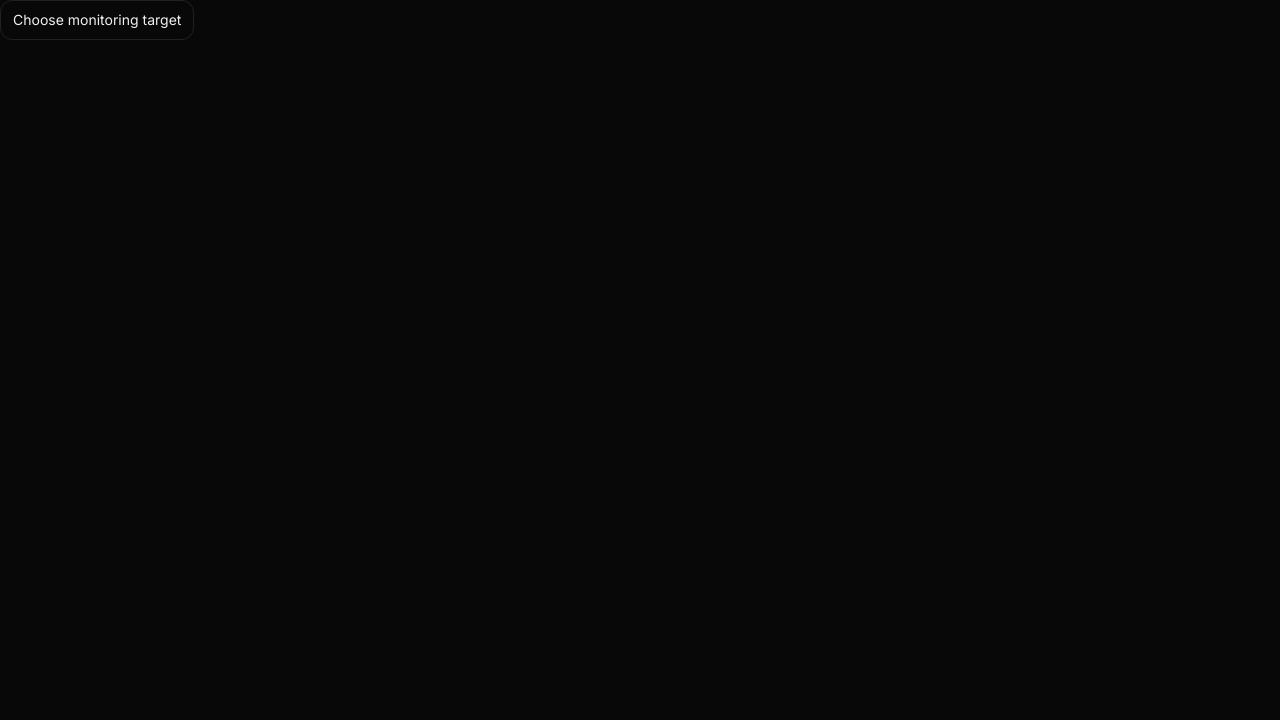
Test: lets history searches choose a real monitoring target without submitting the search
The width and height of the screenshot is (1280, 720).
Click the button "Choose monitoring target".
click(97, 20)  # box [0,0,194,40]
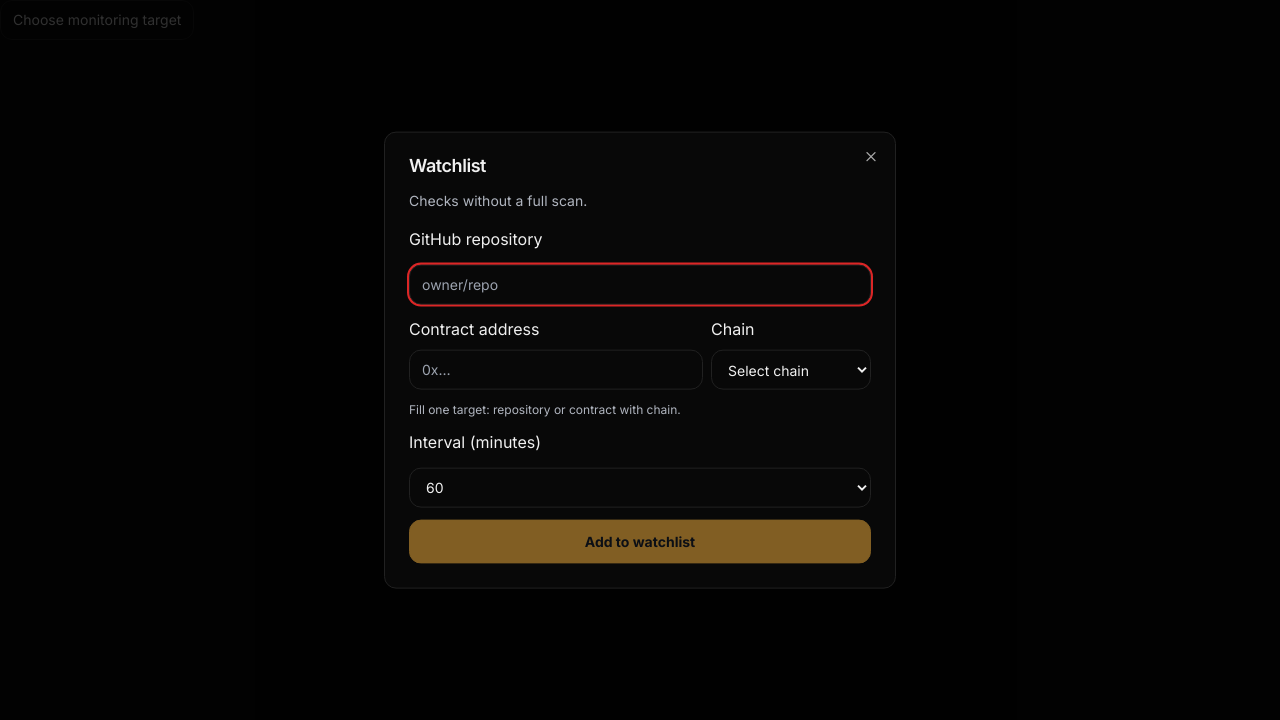
Check: the field labelled "GitHub repository" is empty, box [409,264,871,304]
Check: the button "Add to watchlist" is disabled, box [409,519,871,563]
